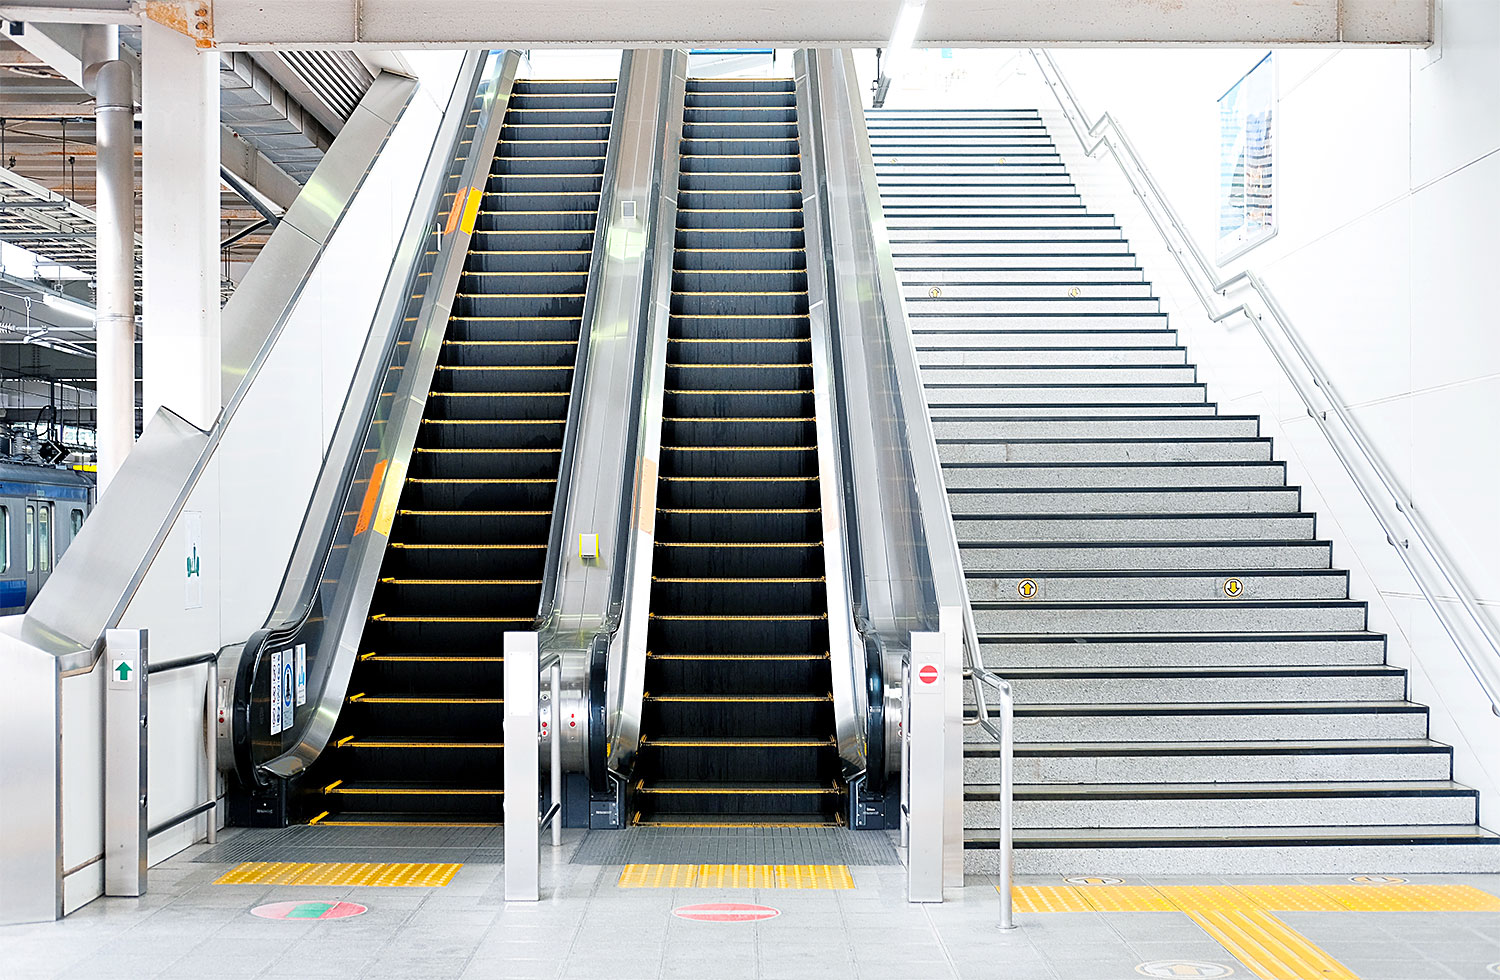dot: (999, 878, 1089, 917), (773, 859, 854, 896), (1167, 879, 1254, 913), (622, 856, 707, 890), (1088, 880, 1173, 914), (696, 857, 778, 891), (1255, 882, 1336, 915), (1405, 886, 1497, 913), (376, 860, 454, 891), (1336, 884, 1414, 913), (305, 855, 373, 887), (241, 861, 306, 886)
escalator: (92, 582, 585, 907), (544, 594, 954, 894)
line: (1198, 911, 1305, 957), (1243, 952, 1355, 980)
stairs: (958, 422, 1489, 877)
